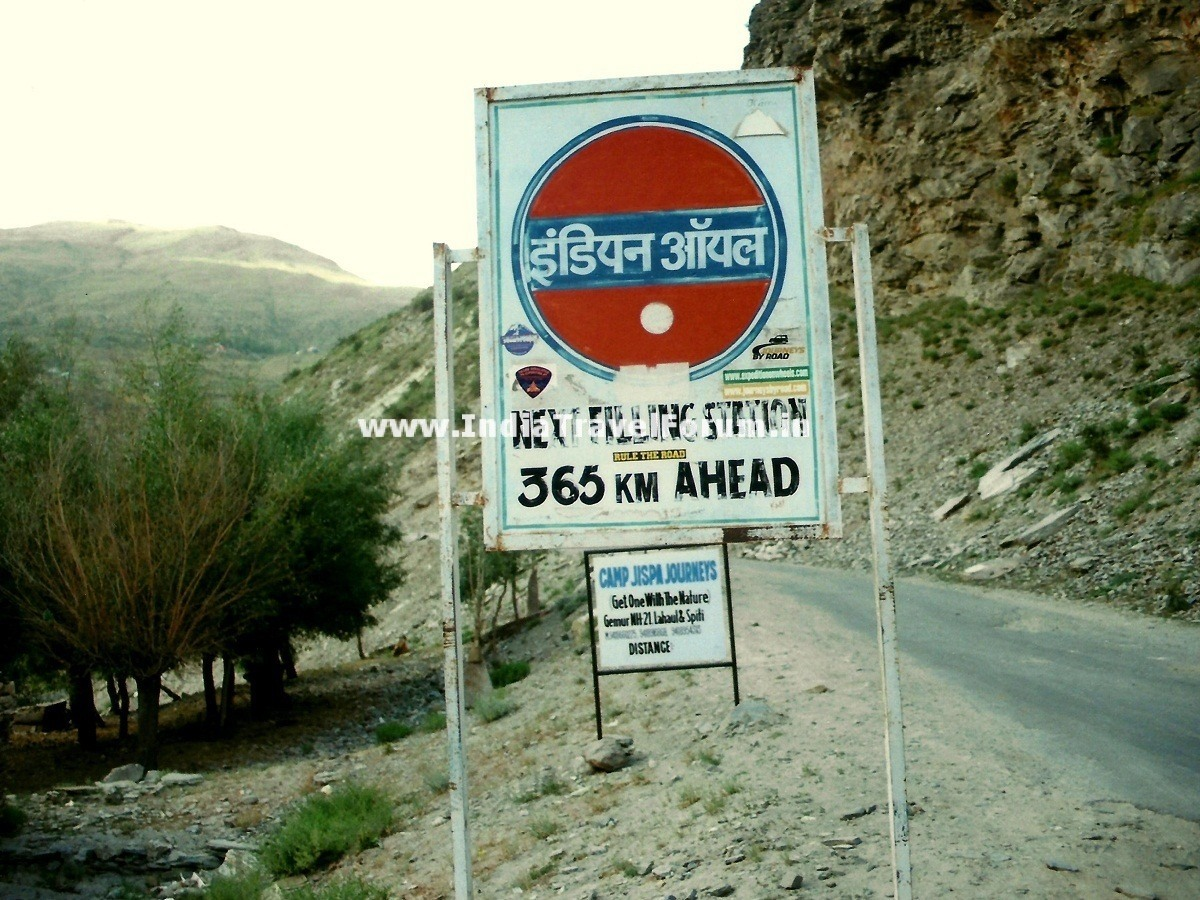fuel-station: (484, 94, 814, 372)
